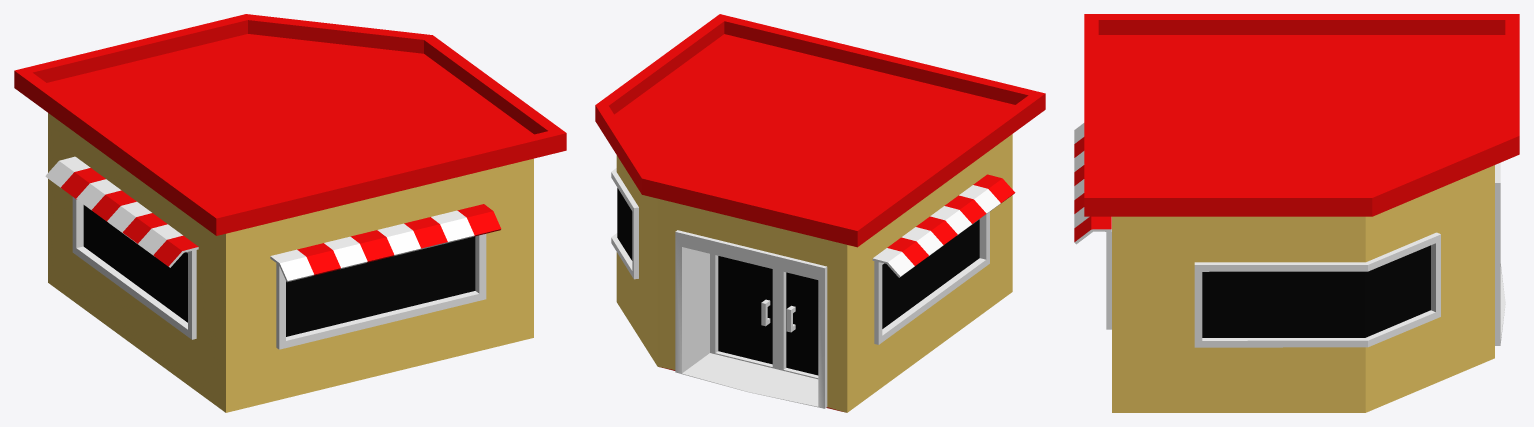
The model's file is shopfiresbutwithoutfries.fbx.
3 renders of one model, left to right at view 1: azimuth 30°, elevation 25°; view 2: azimuth 150°, elevation 25°; view 3: azimuth 270°, elevation 25°, orthographic. The views are drawn at different scales.
Parts seen in each view (by area): view 1: shopfiresbutwithoutfries; view 2: shopfiresbutwithoutfries; view 3: shopfiresbutwithoutfries.
Boxes of the visible parts, x1,y1,x2,y2 form: shopfiresbutwithoutfries: [14, 14, 566, 412]; shopfiresbutwithoutfries: [595, 14, 1045, 412]; shopfiresbutwithoutfries: [1074, 14, 1519, 412].
Bounding box in the file's own units: 827 × 463 × 828.
